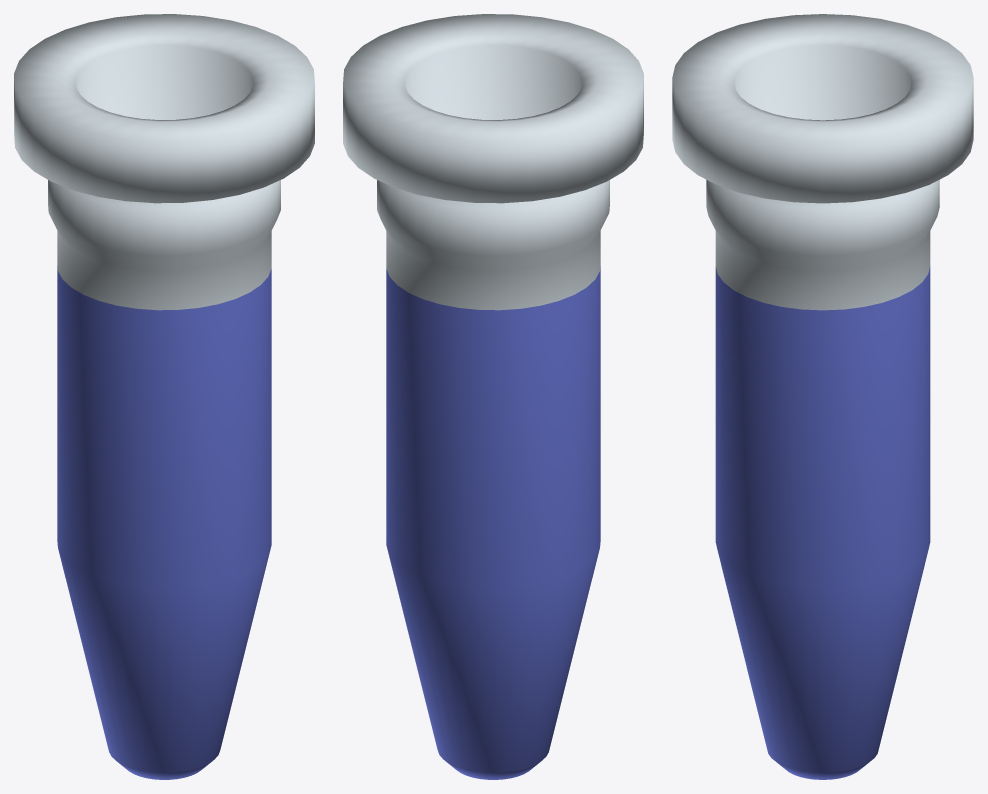
File: vial.fbx
3 views of the same model, side by side, from view 1: azimuth 30°, elevation 25°; view 2: azimuth 150°, elevation 25°; view 3: azimuth 270°, elevation 25° (orthographic).
Parts seen in each view (by area): view 1: Vial; view 2: Vial; view 3: Vial.
Boxes of the visible parts, box(x1,y1,x2,y2) form: Vial: box(14, 14, 314, 779); Vial: box(343, 14, 643, 779); Vial: box(672, 14, 973, 779).
Size of the model in its own units: 4.3 by 4.3 by 10.79.
